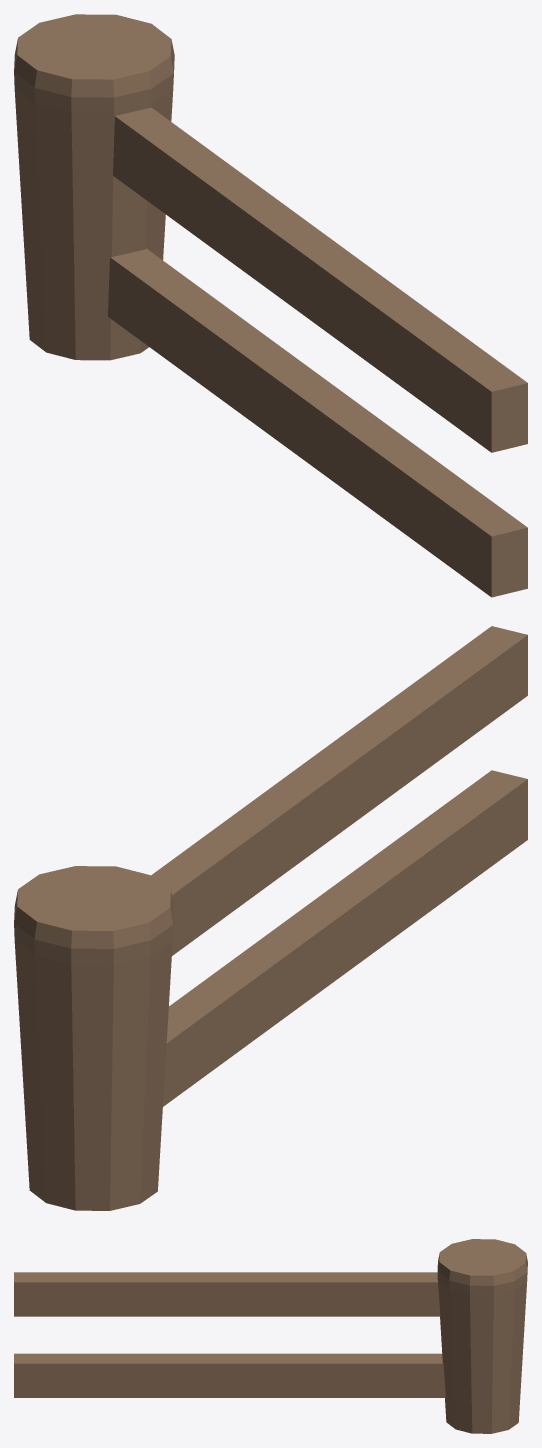
The model's file is Wood_Fence_Partial_Left.fbx.
3 views of the same model, one above another, from view 1: azimuth 30°, elevation 25°; view 2: azimuth 150°, elevation 25°; view 3: azimuth 270°, elevation 25° (orthographic). The views are drawn at different scales.
Parts seen in each view (by area): view 1: Wood_Fence_Partial_Left; view 2: Wood_Fence_Partial_Left; view 3: Wood_Fence_Partial_Left.
Boxes of the visible parts, bbox=[...] form: Wood_Fence_Partial_Left: bbox=[14, 14, 527, 597]; Wood_Fence_Partial_Left: bbox=[14, 626, 527, 1210]; Wood_Fence_Partial_Left: bbox=[14, 1239, 527, 1433].
Bounding box in the file's own units: 0.4897 × 0.9619 × 2.78.
